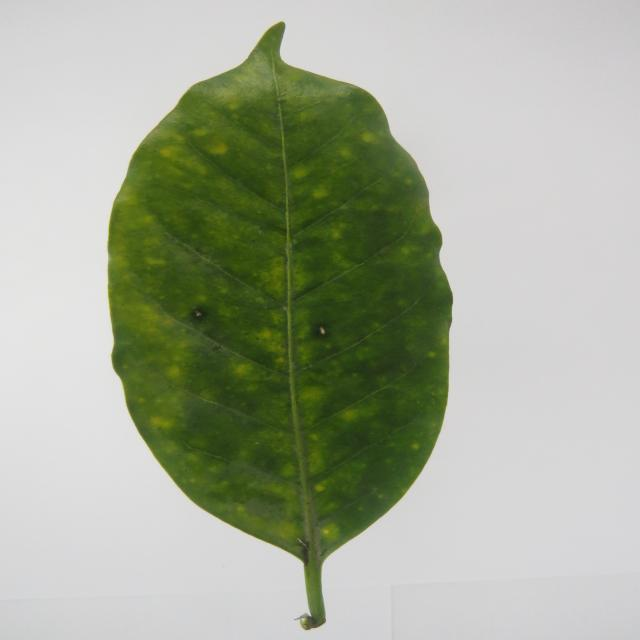DeficienciaNutricional-Magnesio: (108, 24, 452, 629)
